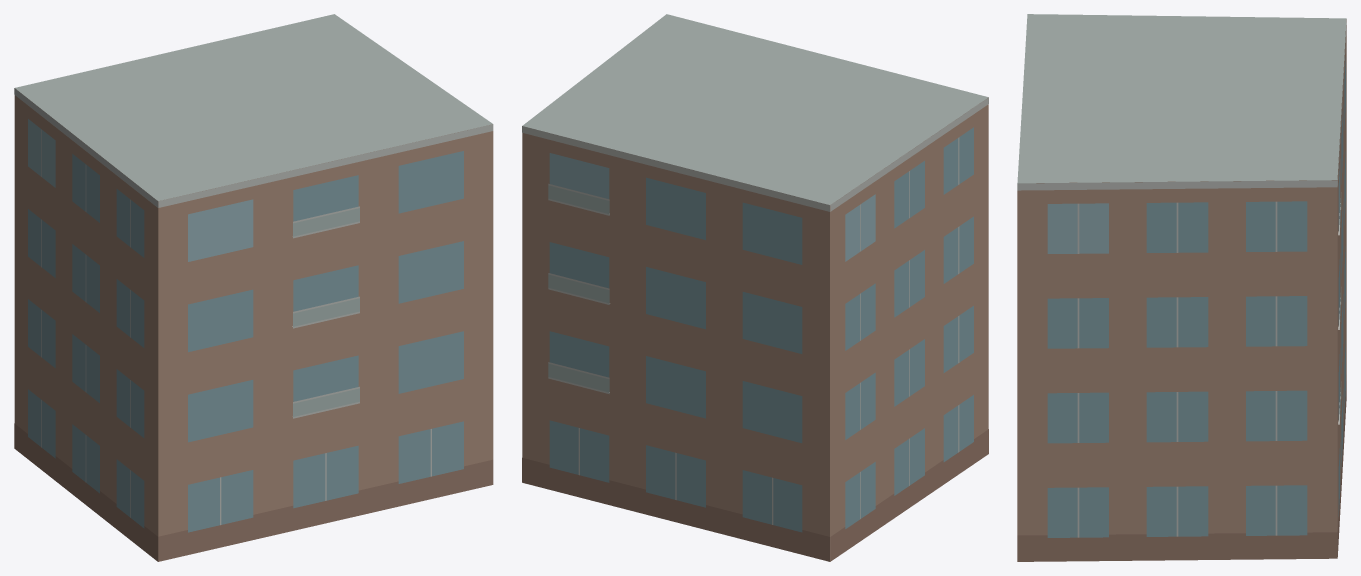
File: survey-upis-32932881.glb
The picture shows the model from 3 angles, left to right: view 1: azimuth 30°, elevation 25°; view 2: azimuth 150°, elevation 25°; view 3: azimuth 270°, elevation 25°; orthographic projection. The views are drawn at different scales.
Visible parts, largest first — view 1: survey-upis-32932881.tmp; view 2: survey-upis-32932881.tmp; view 3: survey-upis-32932881.tmp.
Part boxes in pixels (<box>): survey-upis-32932881.tmp: <box>14,14,493,561</box>; survey-upis-32932881.tmp: <box>522,14,988,561</box>; survey-upis-32932881.tmp: <box>1017,14,1346,561</box>.
Bounding box in the file's own units: 12.29 × 12.8 × 10.1.
